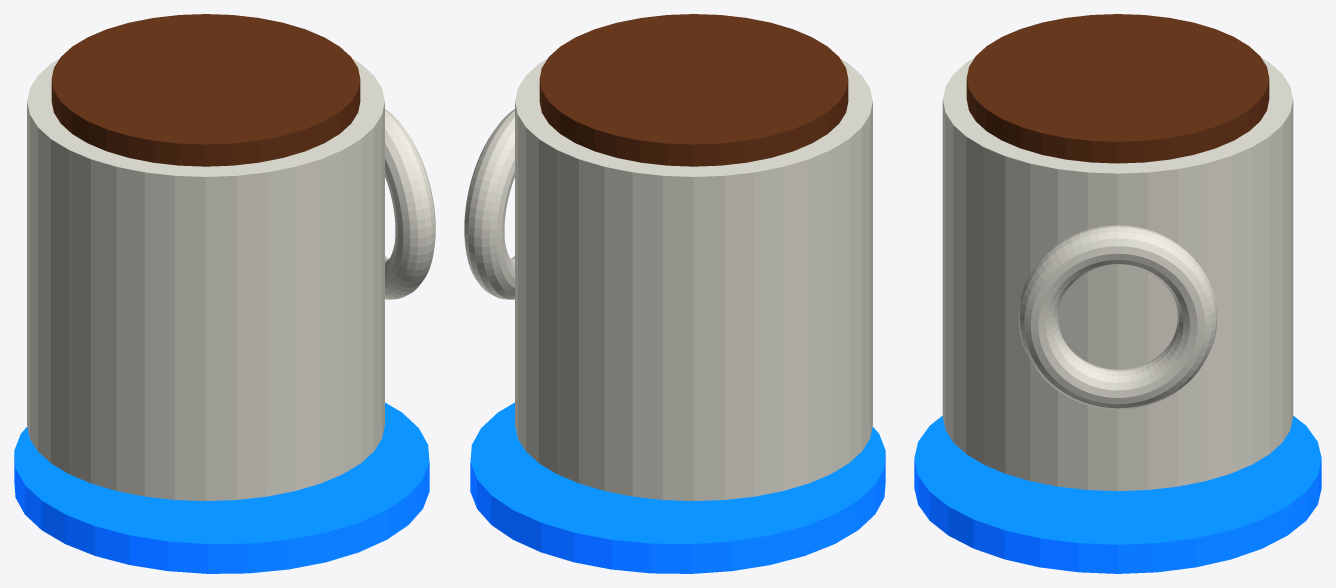
The model's file is french_espresso.dae.
3 views of the same model, side by side, from view 1: azimuth 30°, elevation 25°; view 2: azimuth 150°, elevation 25°; view 3: azimuth 270°, elevation 25° (orthographic). The views are drawn at different scales.
Parts seen in each view (by area): view 1: 10_05_Popular_French_Espresso_part_01, 10_05_Popular_French_Espresso_part_03, 10_05_Popular_French_Espresso_ROOT_base, 10_05_Popular_French_Espresso_part_02; view 2: 10_05_Popular_French_Espresso_part_01, 10_05_Popular_French_Espresso_part_03, 10_05_Popular_French_Espresso_ROOT_base, 10_05_Popular_French_Espresso_part_02; view 3: 10_05_Popular_French_Espresso_part_01, 10_05_Popular_French_Espresso_part_03, 10_05_Popular_French_Espresso_ROOT_base, 10_05_Popular_French_Espresso_part_02.
Boxes of the visible parts, bbox=[...] form: 10_05_Popular_French_Espresso_part_01: bbox=[27, 58, 384, 500]; 10_05_Popular_French_Espresso_part_03: bbox=[51, 14, 360, 166]; 10_05_Popular_French_Espresso_ROOT_base: bbox=[14, 402, 429, 573]; 10_05_Popular_French_Espresso_part_02: bbox=[385, 109, 435, 299]; 10_05_Popular_French_Espresso_part_01: bbox=[515, 58, 872, 500]; 10_05_Popular_French_Espresso_part_03: bbox=[539, 14, 848, 166]; 10_05_Popular_French_Espresso_ROOT_base: bbox=[470, 402, 885, 573]; 10_05_Popular_French_Espresso_part_02: bbox=[464, 109, 514, 299]; 10_05_Popular_French_Espresso_part_01: bbox=[942, 57, 1293, 490]; 10_05_Popular_French_Espresso_part_03: bbox=[966, 14, 1269, 163]; 10_05_Popular_French_Espresso_ROOT_base: bbox=[914, 416, 1321, 573]; 10_05_Popular_French_Espresso_part_02: bbox=[1018, 225, 1217, 409].
Bounding box in the file's own units: 0.76 × 0.8277 × 0.76.
